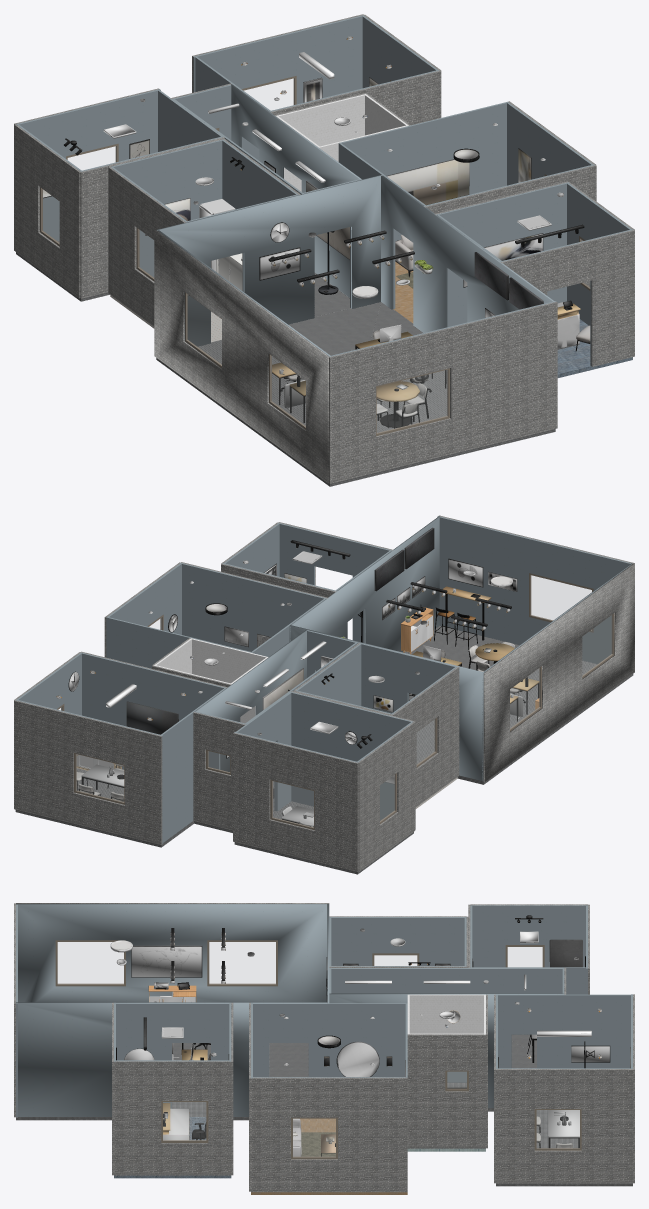
The model's file is scene_named.glb.
The picture shows the model from 3 angles, top to bottom: view 1: azimuth 30°, elevation 25°; view 2: azimuth 150°, elevation 25°; view 3: azimuth 270°, elevation 25°; orthographic projection. The views are drawn at different scales.
Parts seen in each view (by area): view 1: south_wall_exterior_open_office/south_wall_exterior_open_off, west_wall_exterior_open_office/west_wall_exterior_open_offic, north_wall_open_office/north_wall_open_office/geometry_0, east_wall_open_office/east_wall_open_office/geometry_0, south_wall_exterior_reception/south_wall_exterior_reception/, north_wall_meeting_room/north_wall_meeting_room/geometry_0, north_wall_lounge/north_wall_lounge/geometry_0, west_wall_exterior_meeting_room_2/west_wall_exterior_meeting, floor_open_office, east_wall_hallway/east_wall_hallway/geometry_0, north_wall_meeting_room_2/north_wall_meeting_room_2/geometry, north_wall_reception/north_wall_reception/geometry_0 (+31 smaller); view 2: north_wall_exterior_meeting_room/north_wall_exterior_meeting, west_wall_exterior_open_office/west_wall_exterior_open_offic, south_wall_open_office/south_wall_open_office/geometry_0, north_wall_exterior_meeting_room_2/north_wall_exterior_meeti, east_wall_open_office/east_wall_open_office/geometry_0, south_wall_lounge/south_wall_lounge/geometry_0, south_wall_meeting_room/south_wall_meeting_room/geometry_0, west_wall_exterior_meeting_room_2/west_wall_exterior_meeting, south_wall_meeting_room_2/south_wall_meeting_room_2/geometry, west_wall_exterior_kitchen/west_wall_exterior_kitchen/geomet, north_wall_exterior_hallway/north_wall_exterior_hallway/geom, south_wall_reception/south_wall_reception/geometry_0 (+33 smaller); view 3: west_wall_open_office/west_wall_open_office/geometry_0, east_wall_exterior_lounge/east_wall_exterior_lounge/geometry, east_wall_exterior_meeting_room/east_wall_exterior_meeting_r, east_wall_open_office/east_wall_open_office/geometry_0, east_wall_exterior_reception/east_wall_exterior_reception/ge, east_wall_exterior_bathroom/east_wall_exterior_bathroom/geom, west_wall_lounge/west_wall_lounge/geometry_0, west_wall_meeting_room/west_wall_meeting_room/geometry_0, west_wall_hallway/west_wall_hallway/geometry_0, west_wall_kitchen/west_wall_kitchen/geometry_0, west_wall_reception/west_wall_reception/geometry_0, west_wall_meeting_room_2/west_wall_meeting_room_2/geometry_0 (+28 smaller).
Boxes of the visible parts, x1,y1,x2,y2 form: south_wall_exterior_open_office/south_wall_exterior_open_off: (329,302,557,483); west_wall_exterior_open_office/west_wall_exterior_open_offic: (154,230,329,483); north_wall_open_office/north_wall_open_office/geometry_0: (156,175,382,346); east_wall_open_office/east_wall_open_office/geometry_0: (381,175,554,332); south_wall_exterior_reception/south_wall_exterior_reception/: (500,230,634,366); north_wall_meeting_room/north_wall_meeting_room/geometry_0: (193,15,362,160); north_wall_lounge/north_wall_lounge/geometry_0: (339,101,508,241); west_wall_exterior_meeting_room_2/west_wall_exterior_meeting: (14,124,80,298); floor_open_office: (156,302,555,486); east_wall_hallway/east_wall_hallway/geometry_0: (230,84,361,297); north_wall_meeting_room_2/north_wall_meeting_room_2/geometry: (18,89,160,240); north_wall_reception/north_wall_reception/geometry_0: (435,182,569,326); north_wall_exterior_meeting_room/north_wall_exterior_meeting: (14,700,162,844); west_wall_exterior_open_office/west_wall_exterior_open_offic: (483,563,634,781); south_wall_open_office/south_wall_open_office/geometry_0: (437,516,631,664); north_wall_exterior_meeting_room_2/north_wall_exterior_meeti: (233,732,358,871); east_wall_open_office/east_wall_open_office/geometry_0: (289,516,439,652); south_wall_lounge/south_wall_lounge/geometry_0: (180,562,327,651); south_wall_meeting_room/south_wall_meeting_room/geometry_0: (82,653,224,769); west_wall_exterior_meeting_room_2/west_wall_exterior_meeting: (358,722,415,871); south_wall_meeting_room_2/south_wall_meeting_room_2/geometry: (291,692,411,820); west_wall_exterior_kitchen/west_wall_exterior_kitchen/geomet: (393,667,459,807); north_wall_exterior_hallway/north_wall_exterior_hallway/geom: (193,712,245,830); south_wall_reception/south_wall_reception/geometry_0: (277,522,392,642); west_wall_open_office/west_wall_open_office/geometry_0: (16,904,327,1002); east_wall_exterior_lounge/east_wall_exterior_lounge/geometry: (251,1077,407,1192); east_wall_exterior_meeting_room/east_wall_exterior_meeting_r: (496,1069,632,1183); east_wall_open_office/east_wall_open_office/geometry_0: (16,1002,327,1116); east_wall_exterior_reception/east_wall_exterior_reception/ge: (114,1061,231,1175); east_wall_exterior_bathroom/east_wall_exterior_bathroom/geom: (407,1034,485,1148); west_wall_lounge/west_wall_lounge/geometry_0: (253,1003,405,1076); west_wall_meeting_room/west_wall_meeting_room/geometry_0: (496,994,632,1068); west_wall_hallway/west_wall_hallway/geometry_0: (329,968,564,1082); west_wall_kitchen/west_wall_kitchen/geometry_0: (329,917,466,965); west_wall_reception/west_wall_reception/geometry_0: (116,1003,229,1108); west_wall_meeting_room_2/west_wall_meeting_room_2/geometry_0: (470,905,587,967).
Bounding box in the file's own units: 10.6 × 3.3 × 15.85.
185 materials, 166 textured.
